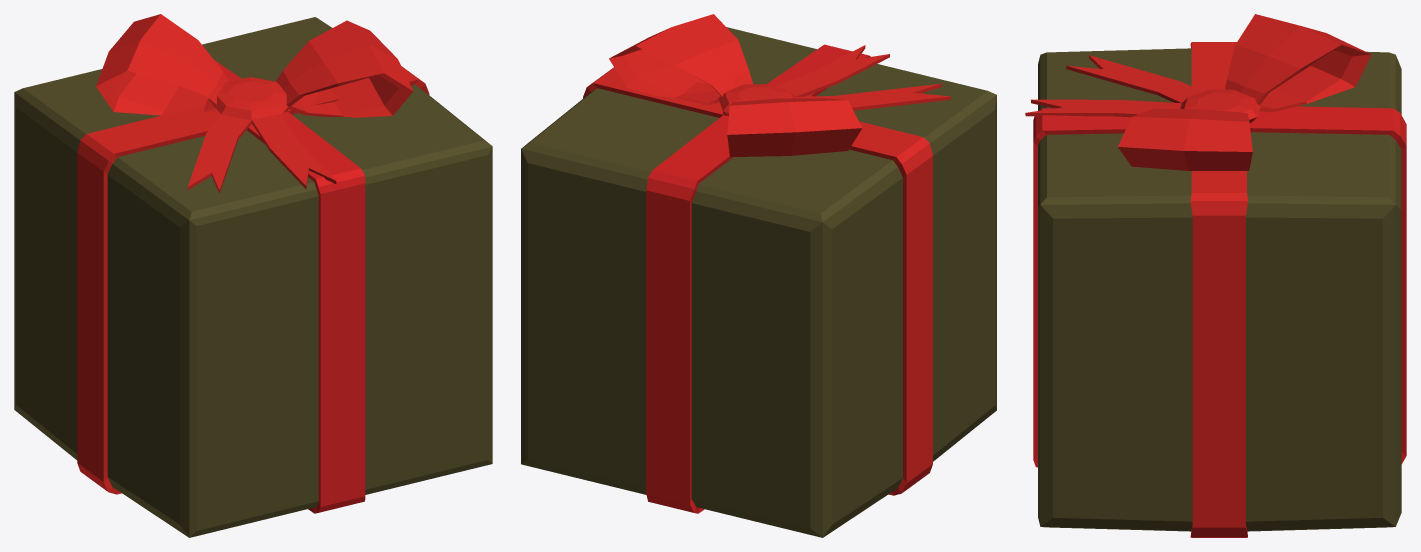
The model's file is present_green.fbx.
3 renders of one model, left to right at view 1: azimuth 30°, elevation 25°; view 2: azimuth 150°, elevation 25°; view 3: azimuth 270°, elevation 25°, orthographic. The views are drawn at different scales.
Visible parts, largest first — view 1: present_green; view 2: present_green; view 3: present_green.
Part boxes in pixels (box(x1,y1,x2,y2)): present_green: box(14, 14, 492, 537); present_green: box(521, 14, 996, 537); present_green: box(1025, 14, 1406, 537).
Size of the model in its own units: 70.9 by 83.7 by 70.84.
